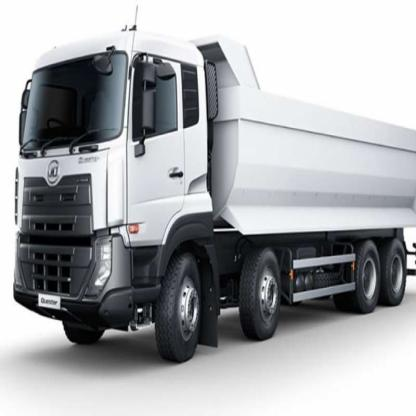dump_truck: (14, 20, 416, 364)
